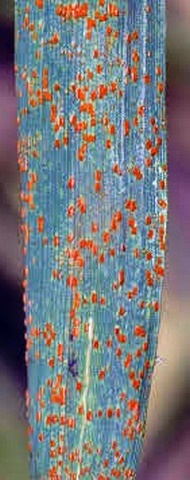Leaf Rust: (4, 18, 183, 457)
